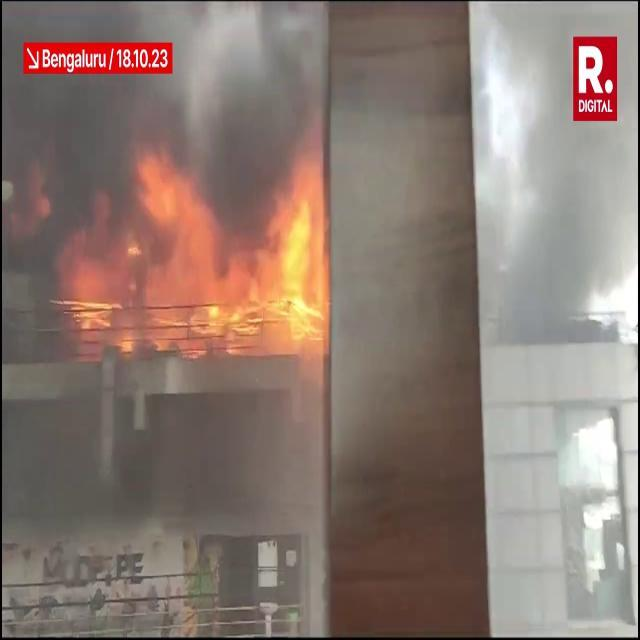Fire: (61, 144, 332, 356)
Smoke: (3, 2, 330, 242)
